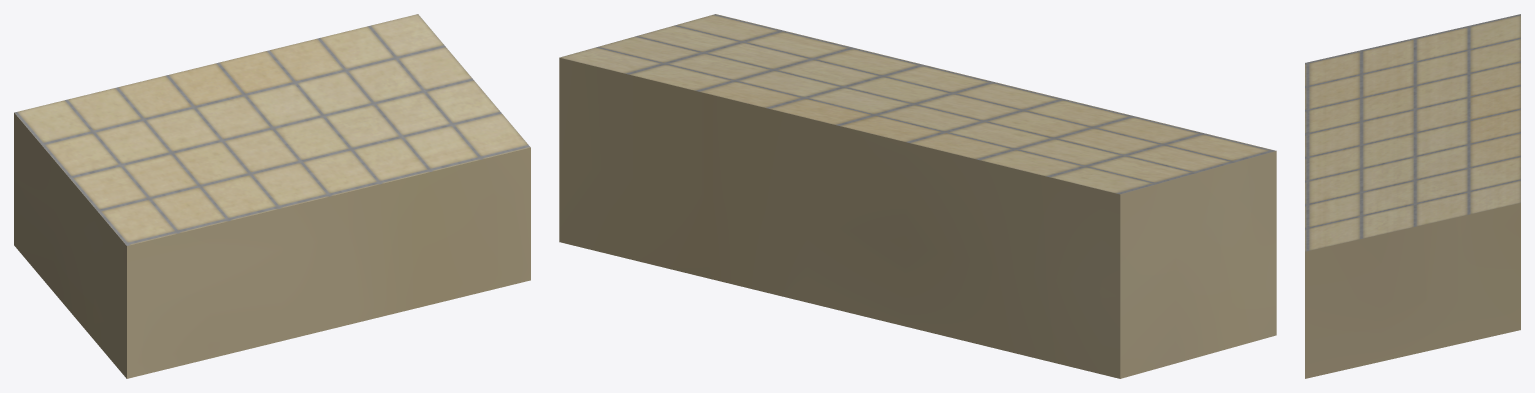
Rendered from set_floor_03_slope_loop.fbx.
3 renders of one model, left to right at view 1: azimuth 30°, elevation 25°; view 2: azimuth 150°, elevation 25°; view 3: azimuth 270°, elevation 25°, orthographic. The views are drawn at different scales.
Visible parts, largest first — view 1: set_floor_03_slope_loop; view 2: set_floor_03_slope_loop; view 3: set_floor_03_slope_loop.
Part boxes in pixels (<box>): set_floor_03_slope_loop: <box>14,14,530,378</box>; set_floor_03_slope_loop: <box>559,14,1276,378</box>; set_floor_03_slope_loop: <box>1305,14,1520,378</box>.
Bounding box in the file's own units: 200 × 87 × 96.64.
